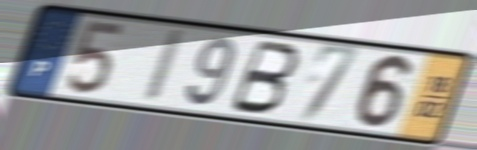5: (62, 17, 129, 96)
6: (352, 51, 417, 133)
7: (290, 42, 364, 128)
9: (183, 35, 237, 108)
B: (225, 37, 303, 117)
I: (140, 27, 192, 106)
